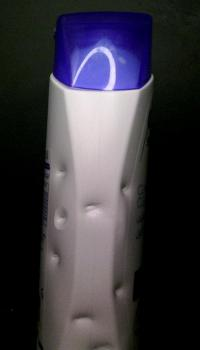dent_unacceptable: (46, 204, 71, 271), (108, 172, 140, 201), (106, 276, 134, 306), (49, 160, 79, 183), (66, 307, 102, 325), (75, 199, 104, 221)
